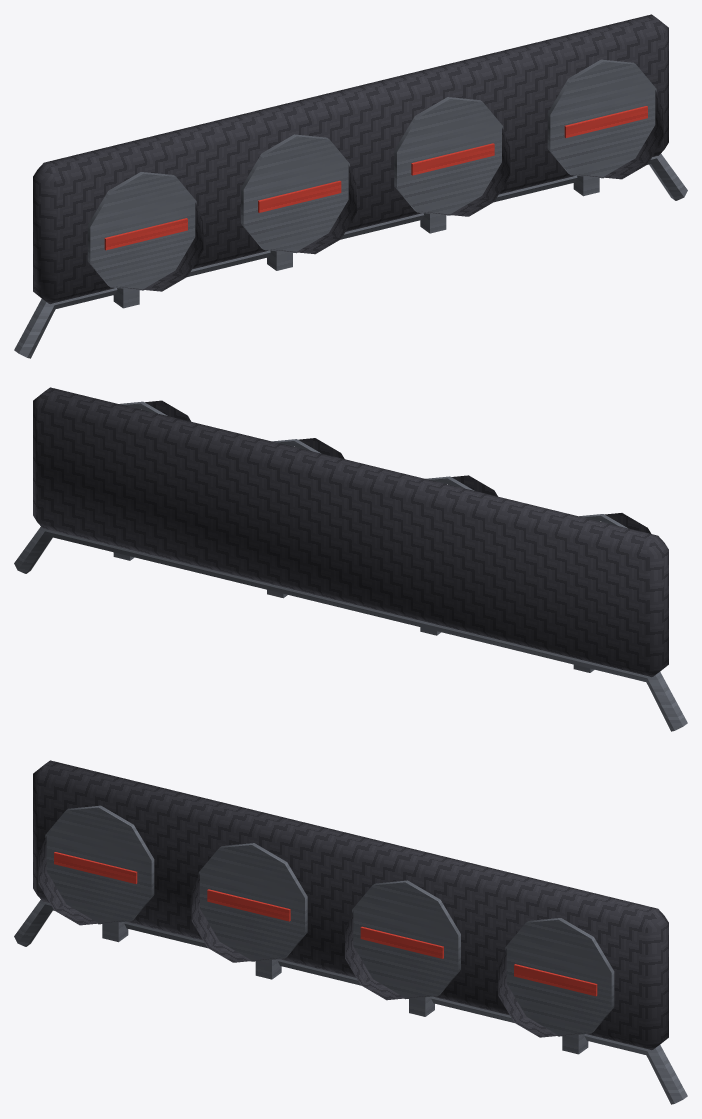
File: farois_aux_n4.glb
3 views of the same model, one above another, from view 1: azimuth 30°, elevation 25°; view 2: azimuth 150°, elevation 25°; view 3: azimuth 330°, elevation 25° (orthographic).
Parts seen in each view (by area): view 1: farois_aux_n4; view 2: farois_aux_n4; view 3: farois_aux_n4.
Boxes of the visible parts, x1,y1,x2,y2 form: farois_aux_n4: (14, 14, 687, 358); farois_aux_n4: (14, 387, 687, 731); farois_aux_n4: (14, 760, 687, 1104).
Bounding box in the file's own units: 1.22 × 0.3269 × 0.16.
3 materials, 3 textured.
